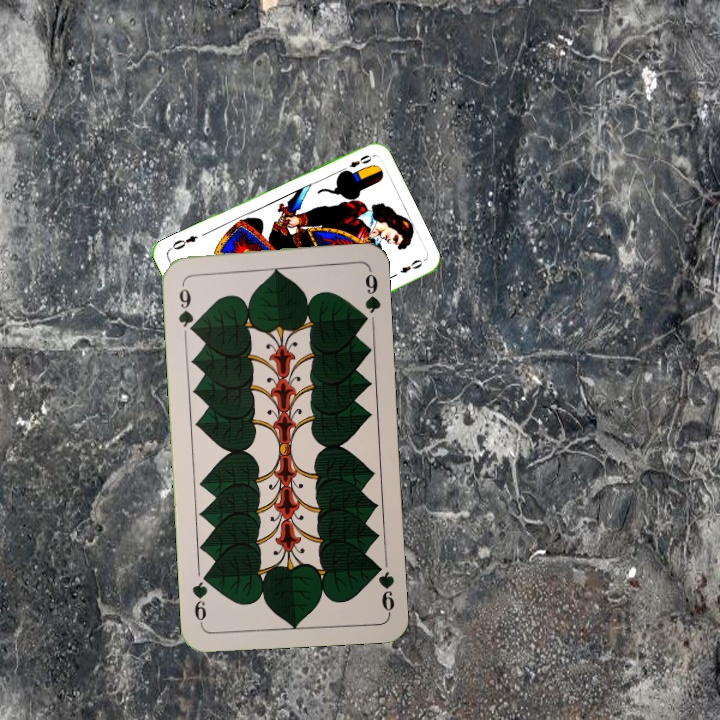EO: (336, 151, 374, 175)
G9: (370, 558, 397, 616), (174, 278, 198, 336)
